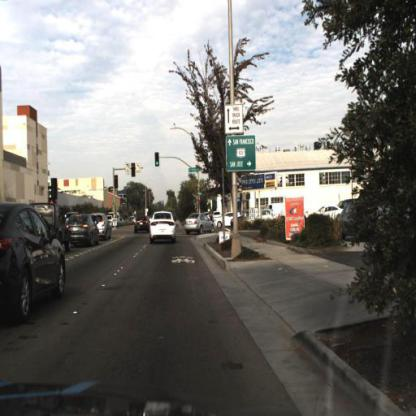car: (1, 207, 68, 323), (149, 206, 178, 245), (67, 215, 101, 248), (185, 210, 216, 234), (89, 213, 113, 242), (133, 211, 153, 239)
trafficLight-Green: (154, 151, 162, 171)
